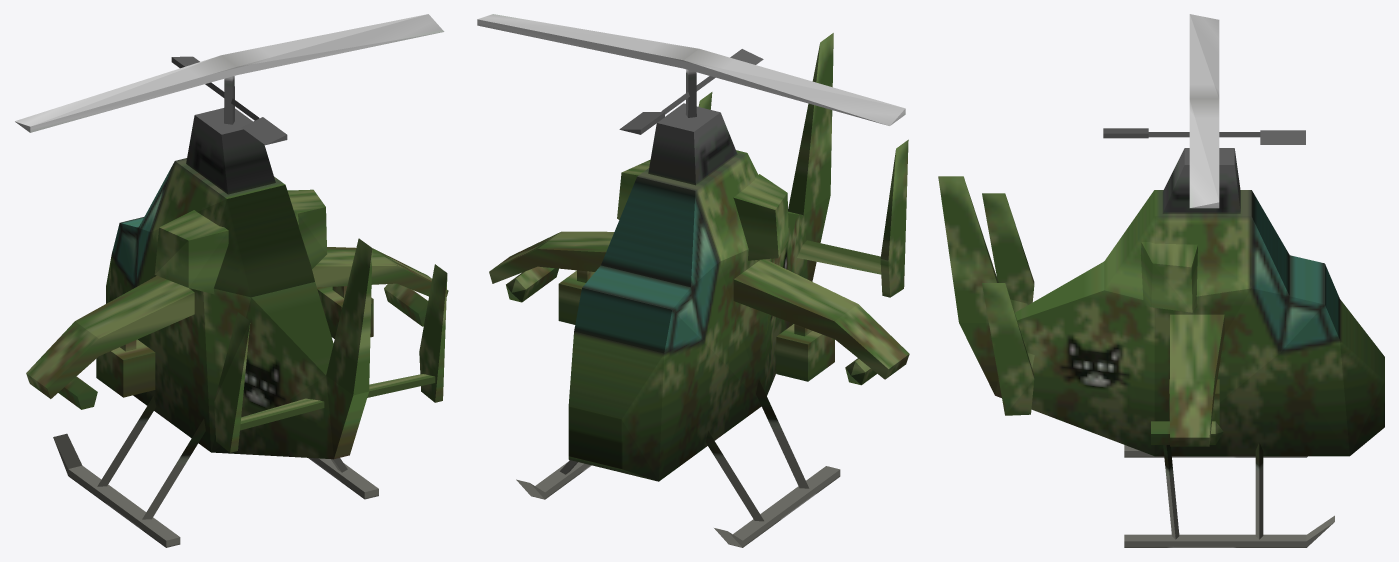
The model's file is hel2.ico.obj.
The picture shows the model from 3 angles, left to right: view 1: azimuth 30°, elevation 25°; view 2: azimuth 150°, elevation 25°; view 3: azimuth 270°, elevation 25°; orthographic projection. The views are drawn at different scales.
Size of the model in its own units: 2.52 by 2.49 by 2.52.
1 material, 1 textured.
